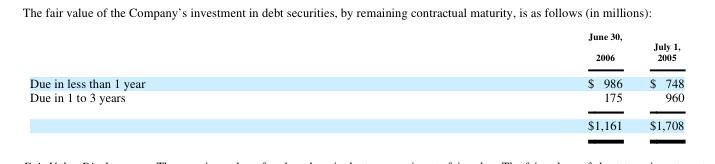table: (29, 28, 683, 132)
table column: (29, 28, 365, 132), (365, 28, 635, 132), (635, 28, 683, 132)
table column header: (29, 28, 683, 68)
table row: (29, 28, 683, 68), (29, 110, 683, 132), (29, 68, 683, 89), (29, 89, 683, 110)
